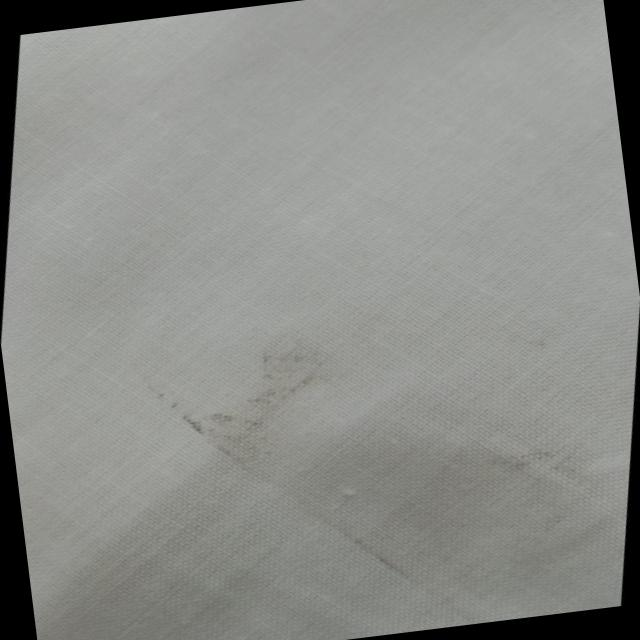stain: (135, 317, 357, 476), (442, 424, 598, 530)
